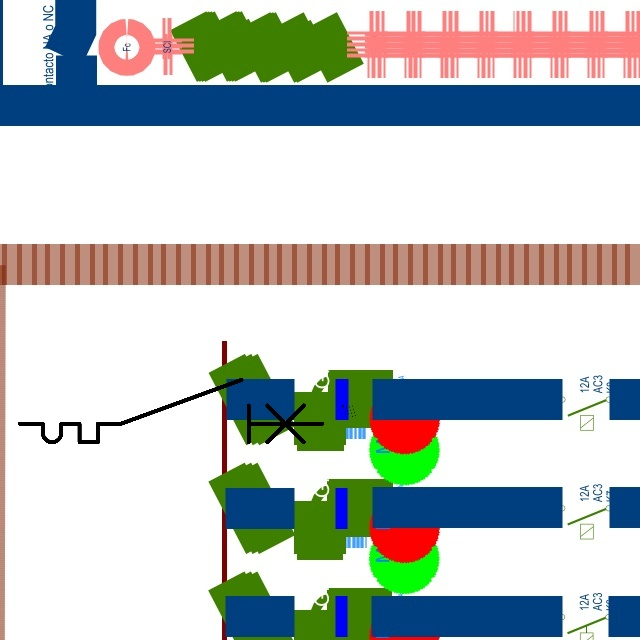interruptor_termomagnetico: (12, 372, 330, 450)
